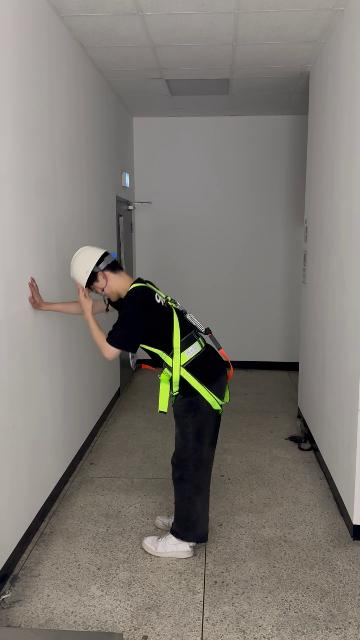helmet_worn: (69, 245, 116, 296)
shoe_not_worn: (142, 530, 196, 558), (154, 514, 175, 531)
vest_worn: (126, 284, 231, 410)
